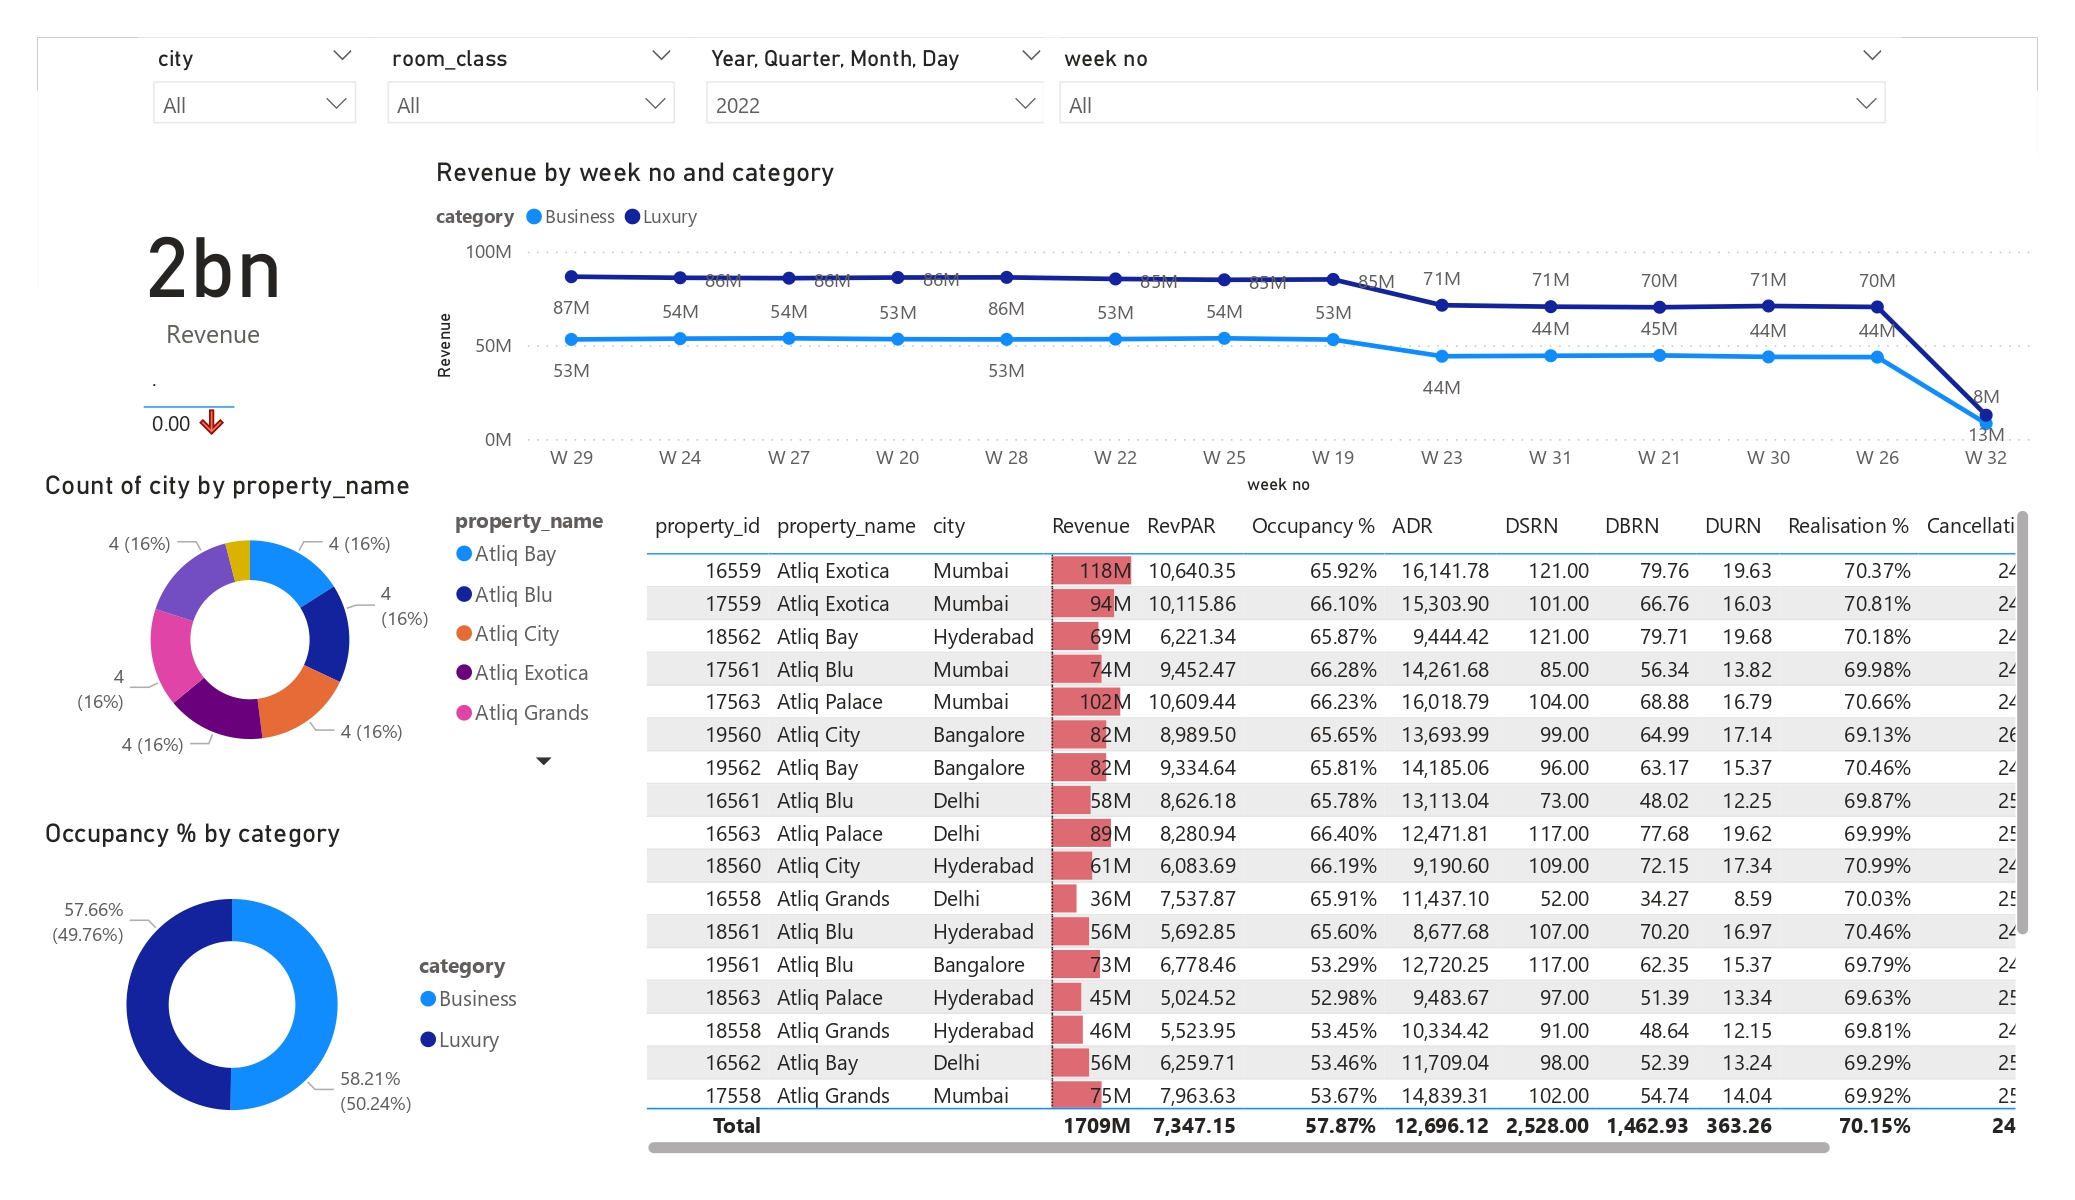

What the dashboard file says about the page in this screenshot:
{"tool":"powerbi","page":{"name":"Page 1","canvas":[1280,720],"ordinal":0},"visuals":[{"type":"tableEx","fields":{"Values":["dim_hotels.property_id","dim_hotels.property_name","dim_hotels.city","key_measures.Revenue","key_measures.RevPAR","key_measures.Occupancy %","key_measures.ADR","key_measures.DSRN","key_measures.DBRN","key_measures.DURN","key_measures.Realisation %","key_measures.Cancellation %"]},"box":[384.3,297.1,895.7,422.9],"z":0},{"type":"slicer","fields":{"Values":["dim_hotels.city"]},"box":[63.6,0,150.4,85.6],"z":1000},{"type":"slicer","fields":{"Values":["dim_rooms.room_class"]},"box":[213.9,0,204.1,61.1],"z":2000},{"type":"slicer","fields":{"Values":["dim_date.mmm yy.Variation.Date Hierarchy.Year","dim_date.mmm yy.Variation.Date Hierarchy.Quarter","dim_date.mmm yy.Variation.Date Hierarchy.Month","dim_date.mmm yy.Variation.Date Hierarchy.Day"]},"box":[418.2,0,237.2,75.4],"z":3000},{"type":"slicer","fields":{"Values":["dim_date.week no"]},"box":[644.4,0,548.9,75.6],"z":4000},{"type":"card","fields":{"Values":["key_measures.Revenue"]},"box":[11.4,75.7,202.9,150],"z":5000},{"type":"tableEx","fields":{"Values":["key_measures.\"ADR WoW change %"]},"box":[62.2,203.3,102.2,72.2],"z":6000},{"type":"donutChart","fields":{"Category":["dim_hotels.category"],"Y":["key_measures.Occupancy %"]},"box":[0,498.6,322.9,221.4],"z":7000},{"type":"lineChart","fields":{"Y":["key_measures.Revenue"],"Category":["dim_date.week no"],"Series":["dim_hotels.category"]},"box":[250,75.7,1030,221.4],"z":8000},{"type":"donutChart","fields":{"Y":["CountNonNull(dim_hotels.city)"],"Category":["dim_hotels.property_name"]},"box":[0,275.7,384.3,200],"z":8001}]}

Visuals, with their boxes on the page's 1280x720 design canvas (x1, y1, x2, y2). These are canvas units, not pixel positions in the 2075x1200 screenshot, which may show the page scaled, cropped or inside an application window:
tableEx - dim_hotels.property_id x dim_hotels.property_name: 384:297:1280:720
slicer - dim_hotels.city: 64:0:214:86
slicer - dim_rooms.room_class: 214:0:418:61
slicer - dim_date.mmm yy.Variation.Date Hierarchy.Year x dim_date.mmm yy.Variation.Date Hierarchy.Quarter: 418:0:655:75
slicer - dim_date.week no: 644:0:1193:76
card - key_measures.Revenue: 11:76:214:226
tableEx - key_measures."ADR WoW change %: 62:203:164:276
donutChart - dim_hotels.category x key_measures.Occupancy %: 0:499:323:720
lineChart - key_measures.Revenue x dim_date.week no: 250:76:1280:297
donutChart - CountNonNull(dim_hotels.city) x dim_hotels.property_name: 0:276:384:476
